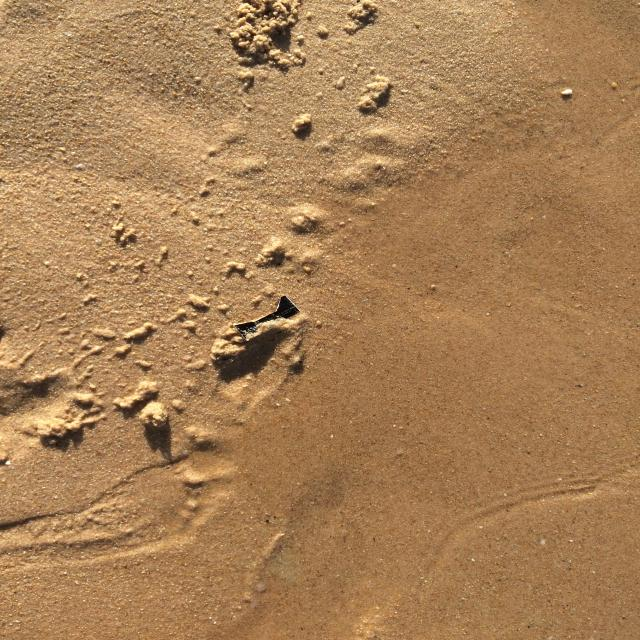litter: (227, 288, 305, 348)
